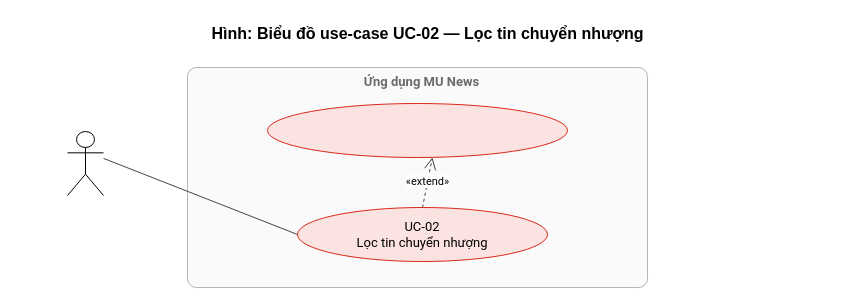
The diagram is 854 pixels wide and 305 high, and some of its shapes have lost their labels. The centre of each missing label's shape, as x and y in pixels:
"Người dùng" goes at [85,163].
"UC-01 Xem và làm mới tin tức" goes at [417,130].
